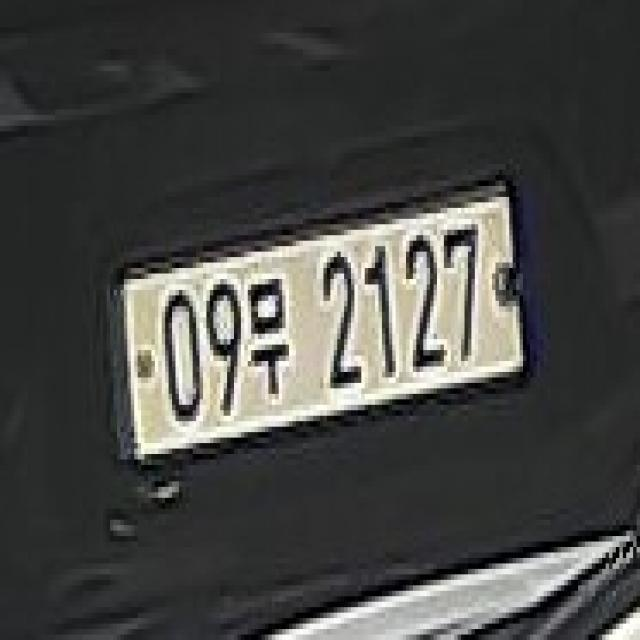0: (161, 289, 205, 434)
1: (365, 237, 398, 384)
2: (321, 248, 362, 393), (404, 235, 447, 373)
7: (445, 214, 484, 366)
9: (206, 275, 243, 423)
license_plate: (111, 162, 553, 478)
mu: (246, 276, 293, 406)
